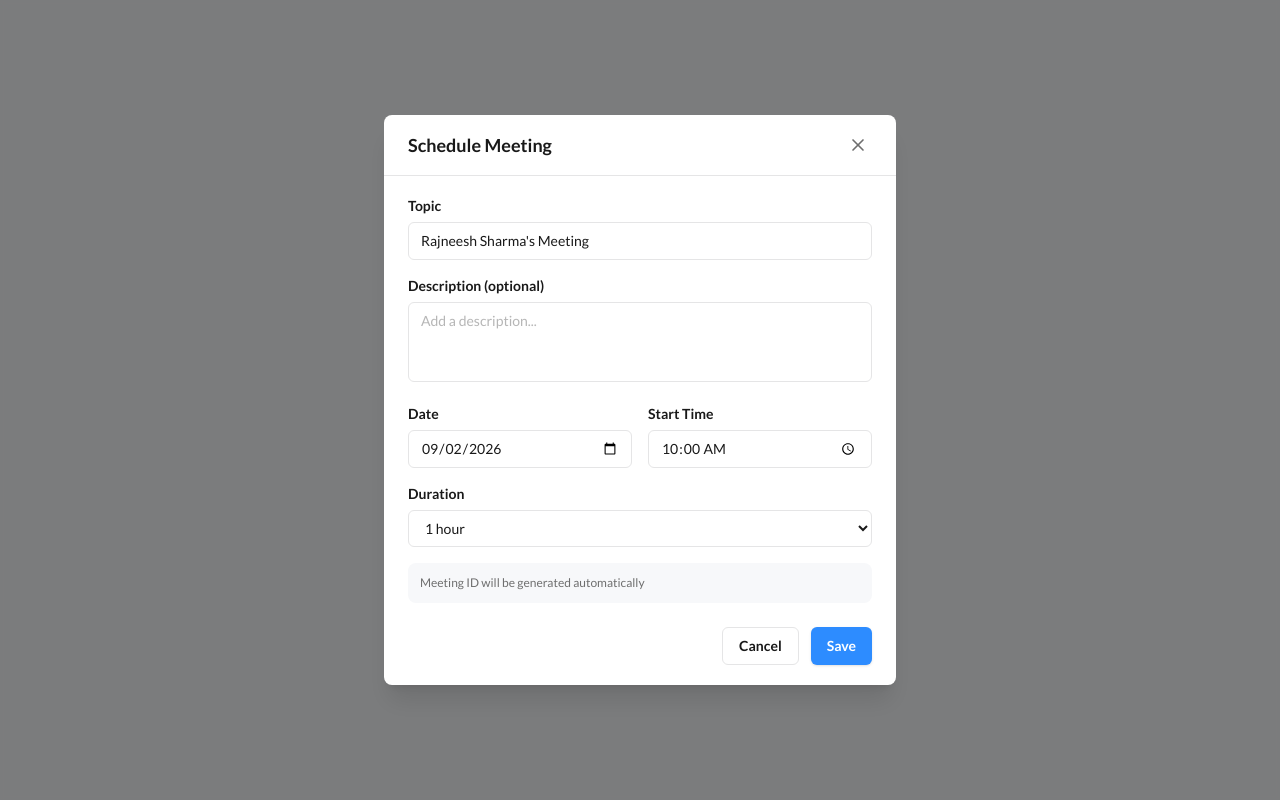
ScheduleMeetingModal › disables save button when topic is empty
Clear the field labelled "Topic". click: (640, 241)
box: [408,222,872,260]
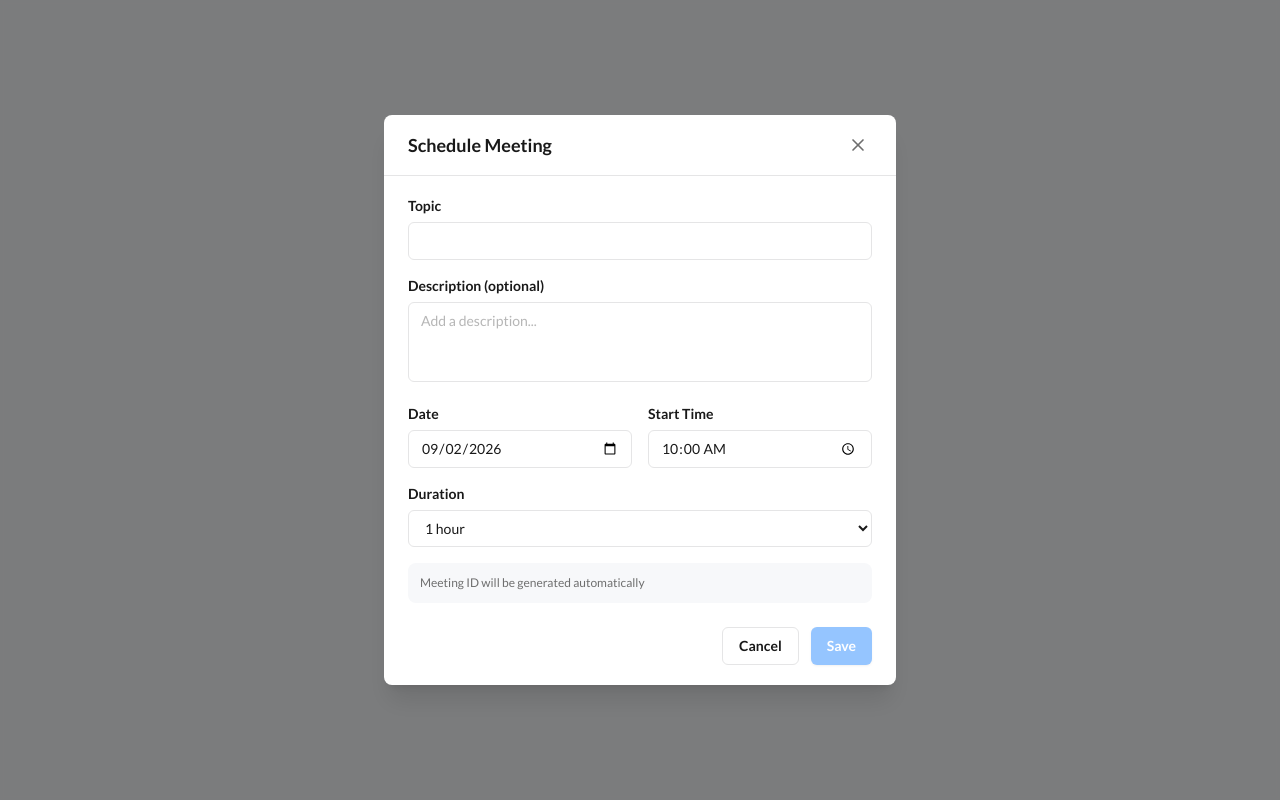
Result: the button "Save" is disabled at [811,627,872,665]
